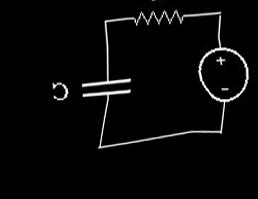Battery: (189, 40, 253, 106)
